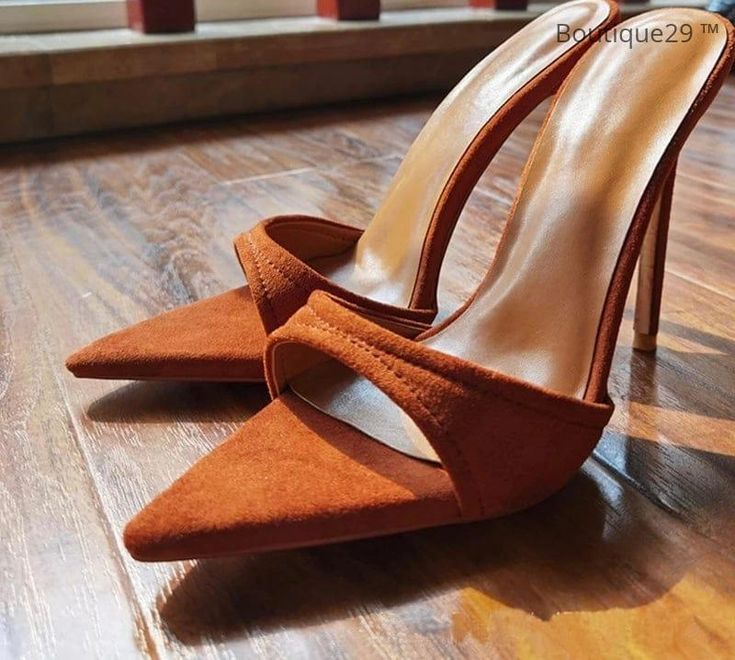gamuza: (64, 212, 613, 564)
